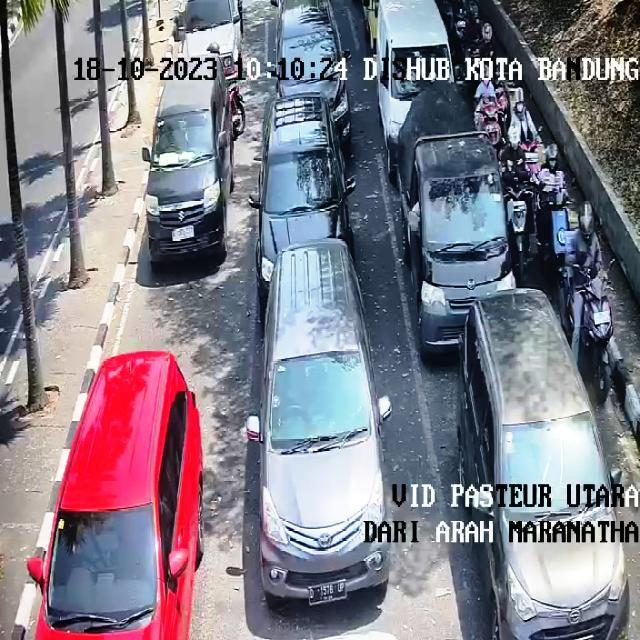car: (459, 290, 640, 640), (248, 240, 391, 605), (28, 351, 204, 639), (399, 84, 515, 355), (250, 96, 355, 309), (144, 69, 236, 263), (378, 0, 454, 174), (278, 0, 350, 148), (184, 0, 242, 78)
motorcyclist: (399, 55, 566, 282), (552, 204, 614, 402), (441, 0, 492, 49)
